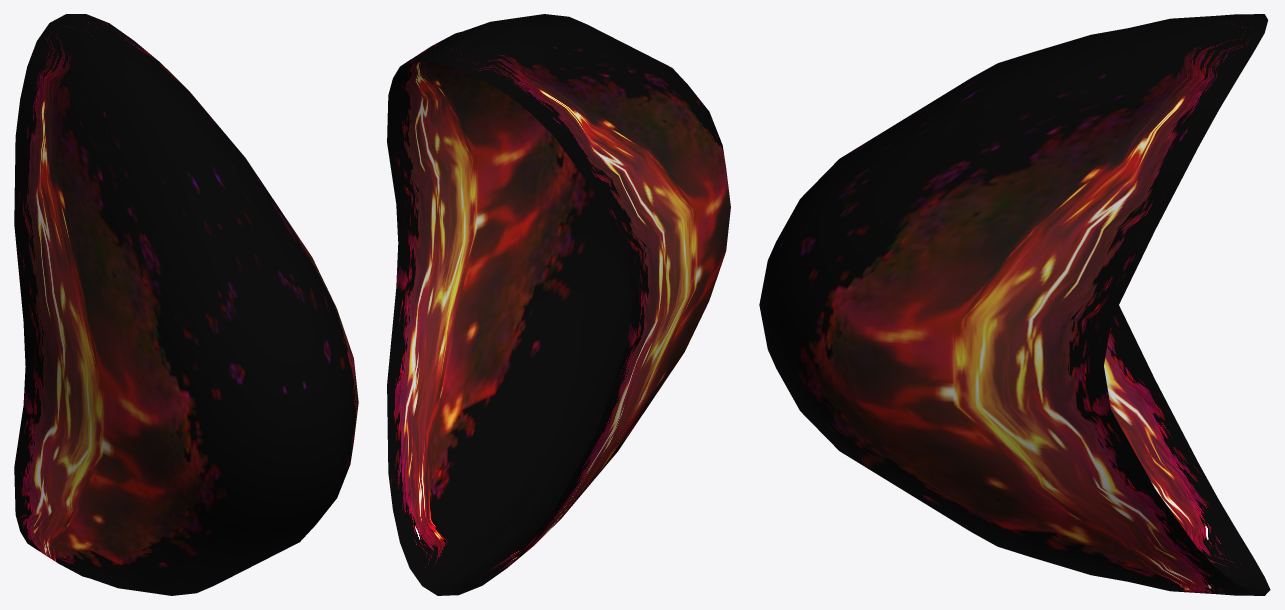
File: reinhardt_strike.obj
3 views of the same model, side by side, from view 1: azimuth 30°, elevation 25°; view 2: azimuth 150°, elevation 25°; view 3: azimuth 270°, elevation 25° (orthographic). The views are drawn at different scales.
Parts seen in each view (by area): view 1: Submesh_0.255.0ED80BE8A5382A59; view 2: Submesh_0.255.0ED80BE8A5382A59; view 3: Submesh_0.255.0ED80BE8A5382A59.
Part boxes in pixels (box(x1,y1,x2,y2)): Submesh_0.255.0ED80BE8A5382A59: box(14, 14, 358, 595); Submesh_0.255.0ED80BE8A5382A59: box(387, 14, 730, 595); Submesh_0.255.0ED80BE8A5382A59: box(759, 14, 1270, 595).
Bounding box in the file's own units: 1 × 2.17 × 1.77.
